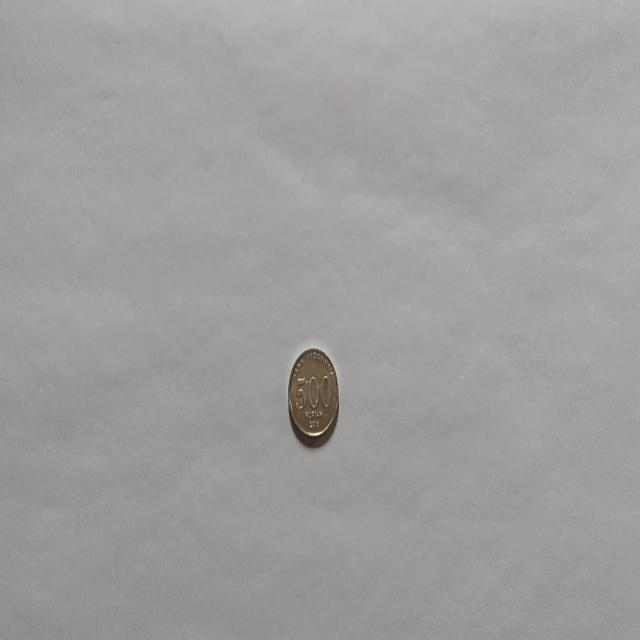lima ratus rupiah: (286, 346, 340, 441)
